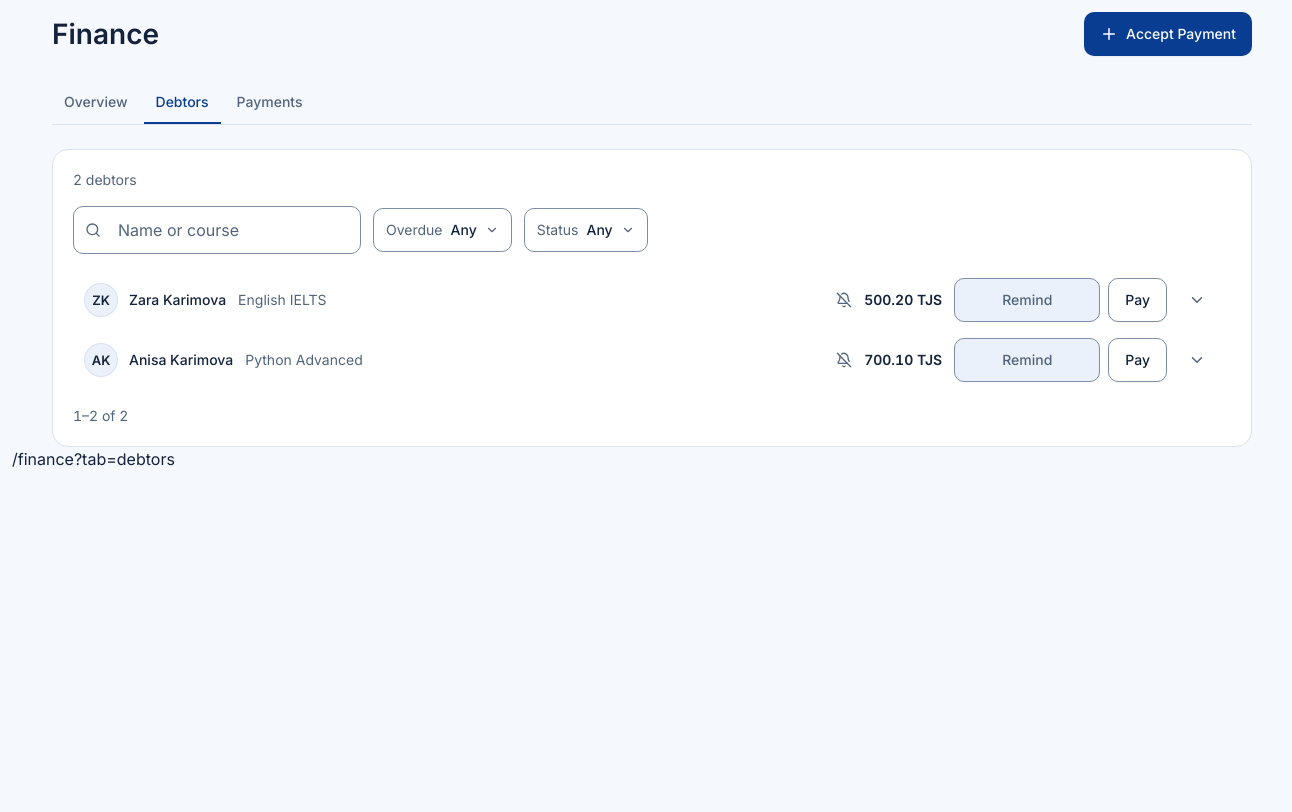
Debtors rows › shows the overdue pill only for positive overdue days and Unavailable in details for unknown overdue
This screenshot has width=1292, height=812.
Expected: the text "Zara Karimova" is shown, [129,290,226,310]
Click the button named "Details for Anisa Karimova, Python Advanced" at (1197,360), box [1175,338,1219,382]
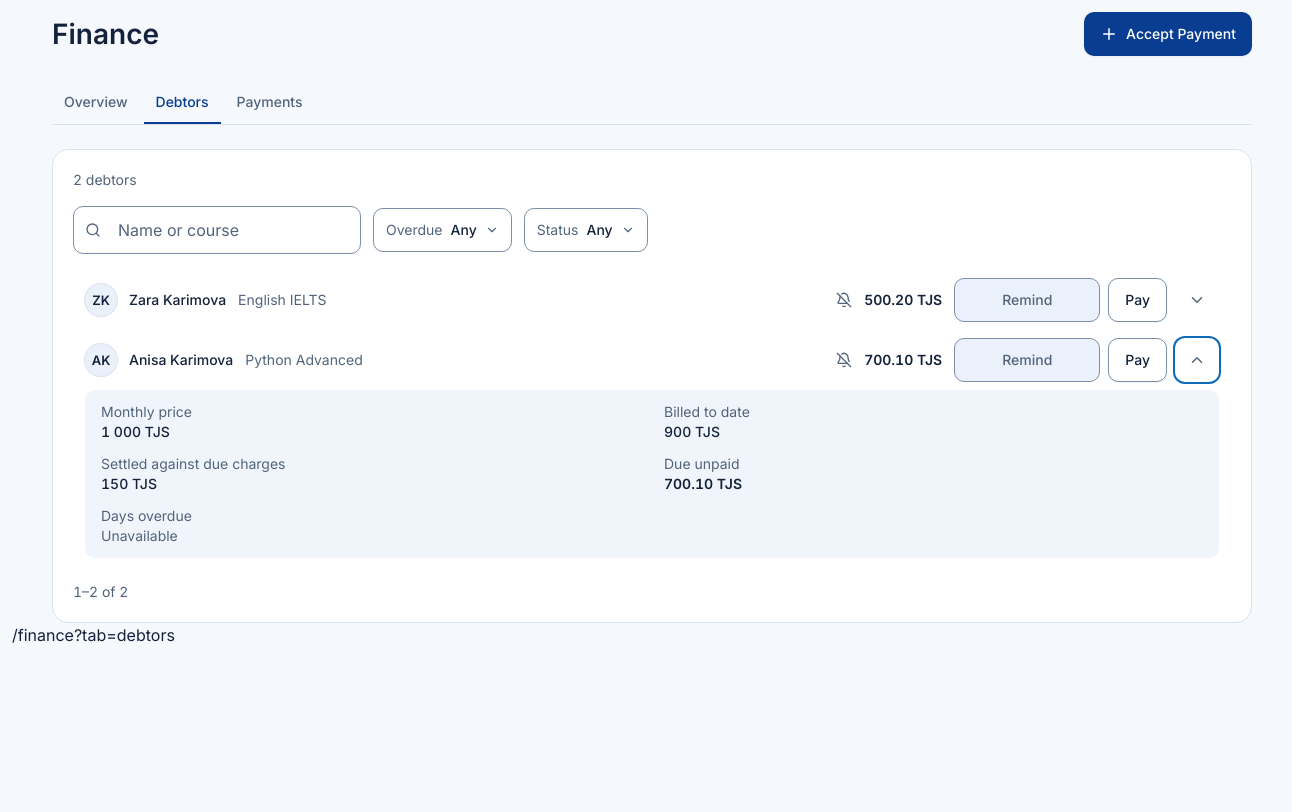
Expected: the text "Unavailable" is shown, [101,527,178,544]
